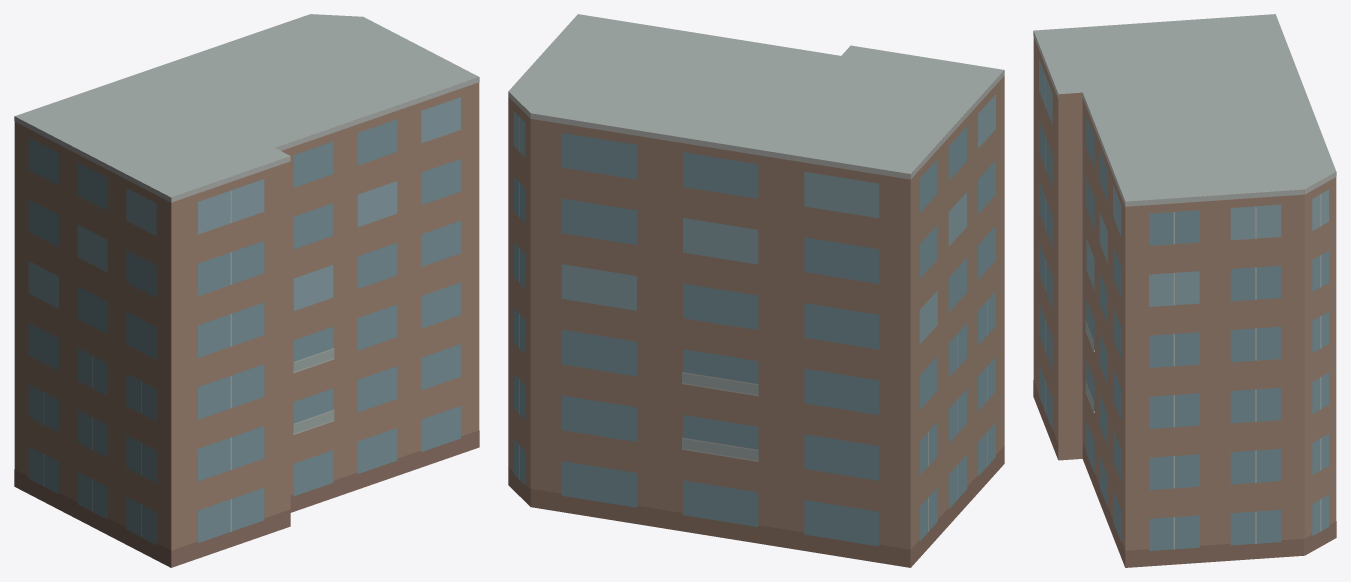
Rendered from survey-upis-32978320.glb.
3 renders of one model, left to right at view 1: azimuth 30°, elevation 25°; view 2: azimuth 150°, elevation 25°; view 3: azimuth 270°, elevation 25°, orthographic. The views are drawn at different scales.
Visible parts, largest first — view 1: survey-upis-32978320.tmp; view 2: survey-upis-32978320.tmp; view 3: survey-upis-32978320.tmp.
Part boxes in pixels (<box>): survey-upis-32978320.tmp: <box>14,14,479,567</box>; survey-upis-32978320.tmp: <box>508,14,1004,567</box>; survey-upis-32978320.tmp: <box>1033,14,1336,567</box>.
Size of the model in its own units: 19.13 by 17.4 by 13.06.
